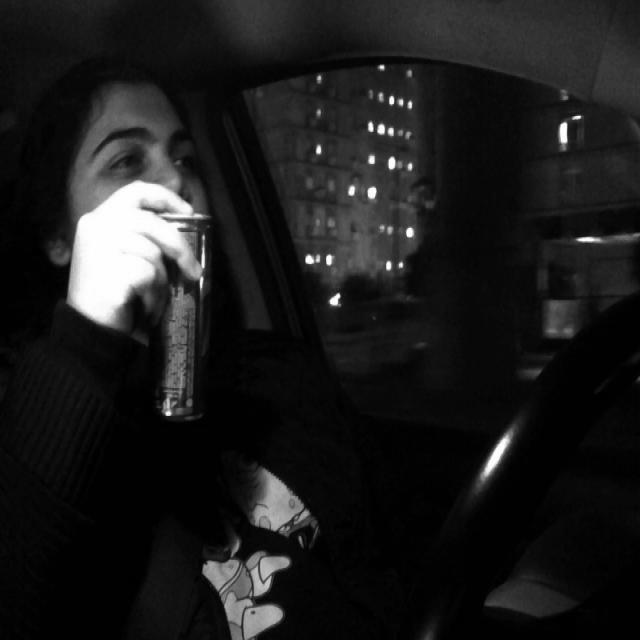Drinking: (155, 210, 209, 428)
